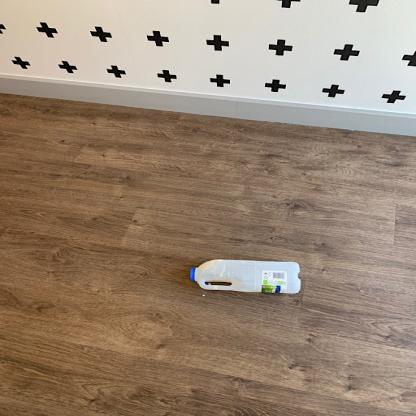trash: (190, 258, 304, 296)
